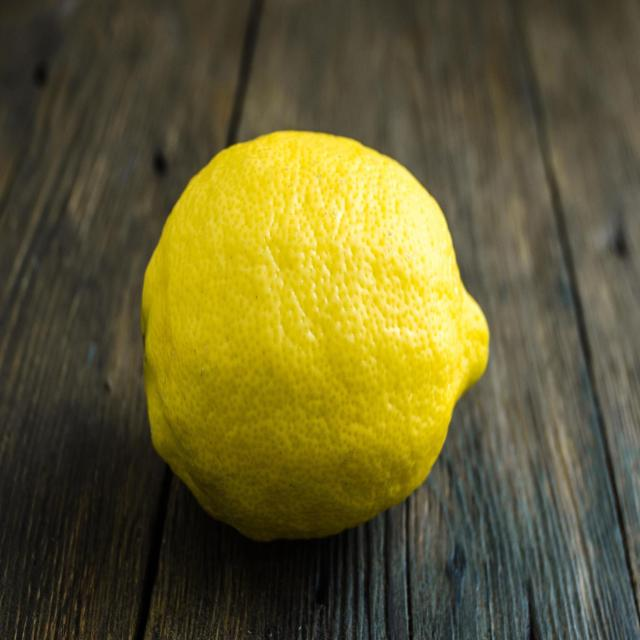lemon: (132, 123, 500, 548)
